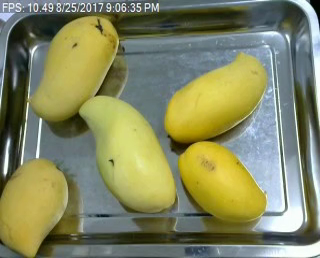Mango: (79, 94, 177, 212), (26, 14, 119, 122), (162, 52, 268, 145), (176, 138, 269, 223), (0, 155, 69, 256)
